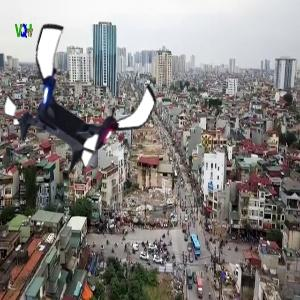drone: (5, 28, 158, 181)
